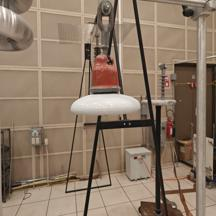insulator: (67, 51, 153, 128)
